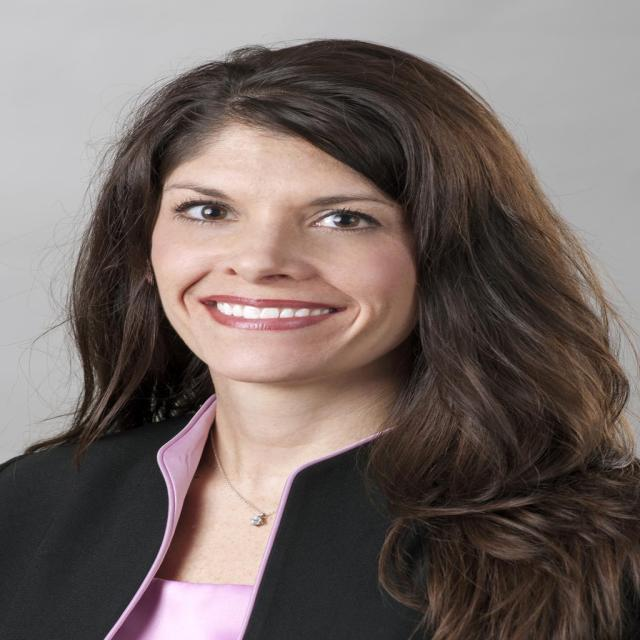Face: (104, 101, 479, 388)
